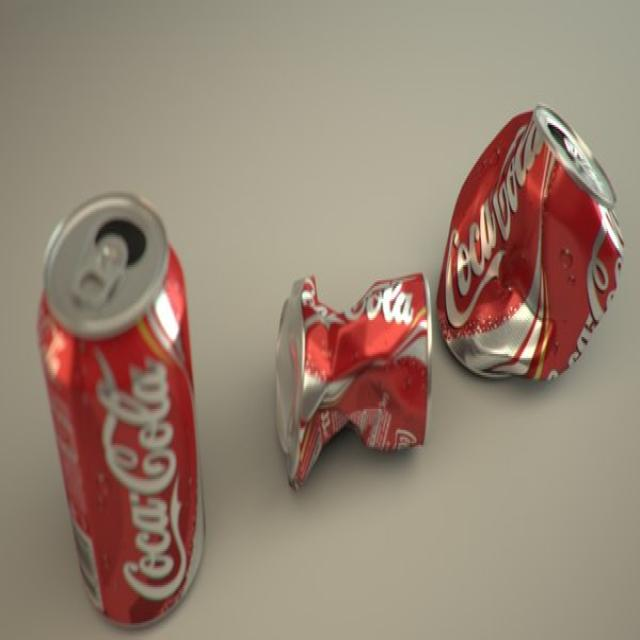can: (40, 194, 208, 636)
